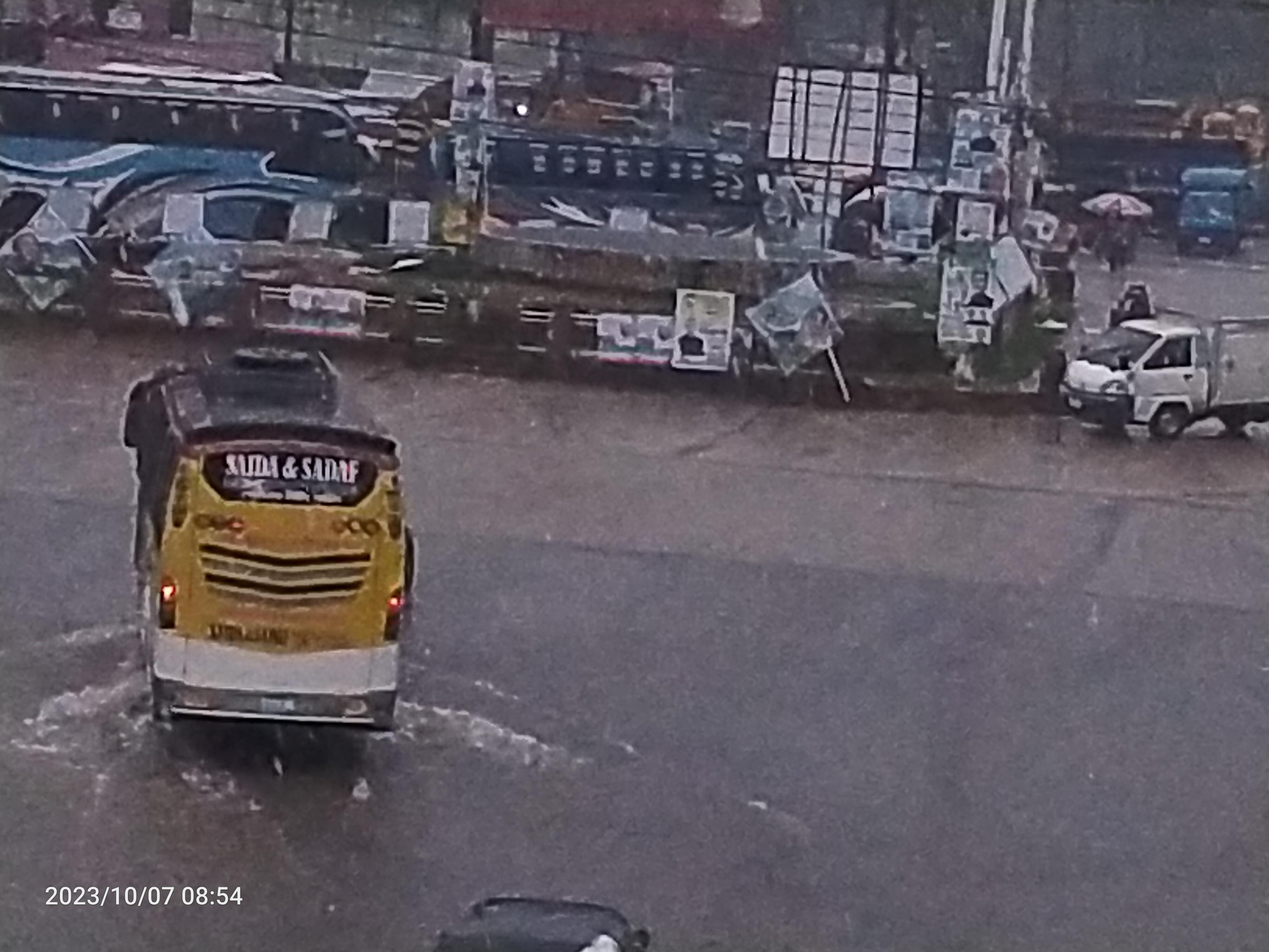Bus: (79, 332, 458, 807), (0, 70, 409, 249), (438, 118, 796, 279)
Car: (1032, 291, 1269, 459), (1157, 146, 1269, 287)
